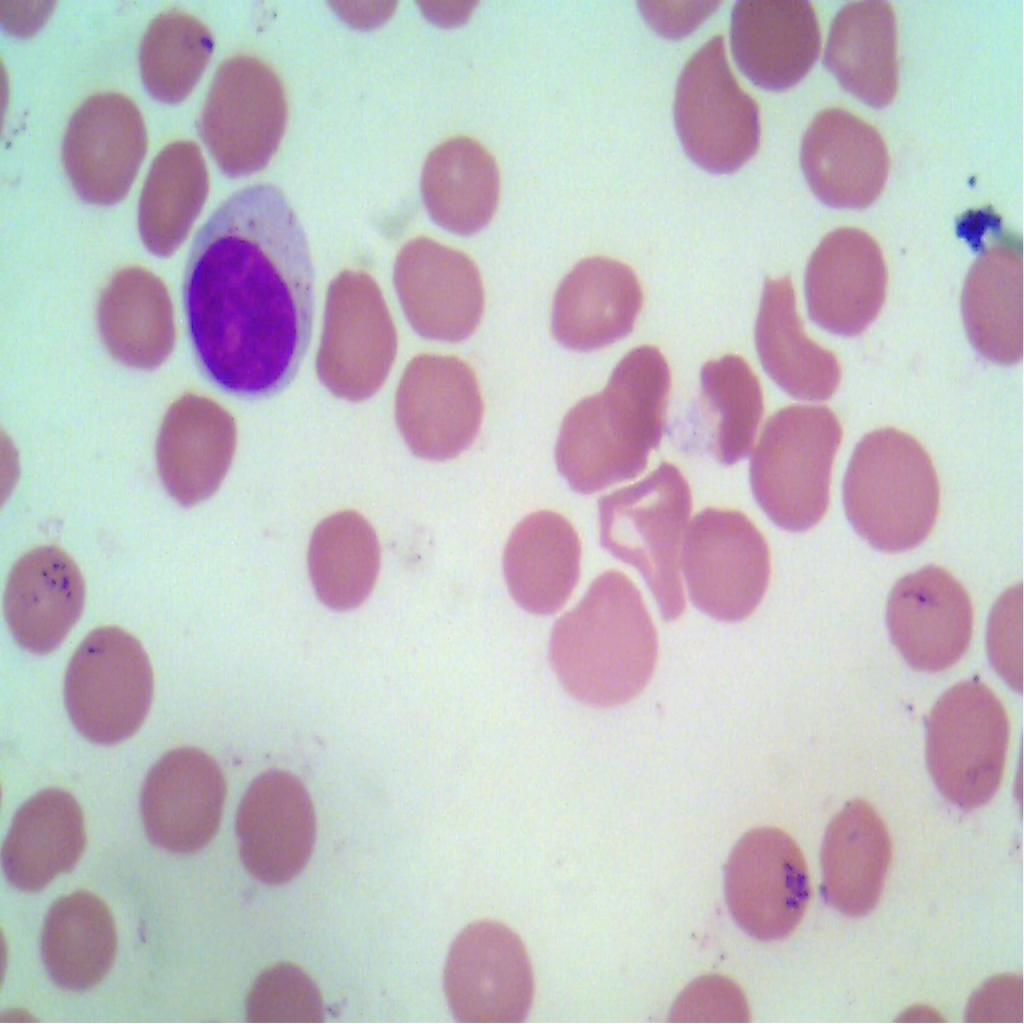Eritrosit: (553, 561, 659, 714), (656, 41, 761, 195), (46, 74, 151, 224), (841, 412, 948, 554), (915, 668, 1016, 815), (389, 338, 493, 477), (746, 275, 849, 412), (790, 224, 900, 349), (61, 621, 159, 760), (429, 901, 539, 1023), (543, 238, 648, 365), (0, 525, 93, 668), (719, 812, 816, 945), (202, 45, 298, 178), (129, 735, 230, 861), (390, 231, 493, 354), (229, 758, 324, 891), (38, 882, 133, 1011), (814, 782, 899, 925), (682, 349, 780, 471), (152, 387, 246, 509), (318, 258, 398, 401), (0, 776, 94, 897), (755, 397, 838, 534), (818, 0, 915, 117), (884, 564, 982, 678), (722, 0, 828, 105), (409, 130, 515, 234), (678, 503, 770, 622), (501, 494, 586, 621), (129, 1, 226, 109), (798, 102, 888, 216), (95, 255, 182, 372), (606, 468, 686, 595), (136, 124, 211, 258), (306, 501, 384, 621), (550, 390, 641, 491), (956, 237, 1023, 374), (601, 337, 678, 454)
Limfosit: (178, 166, 323, 406)
Platelet: (958, 161, 984, 195)
